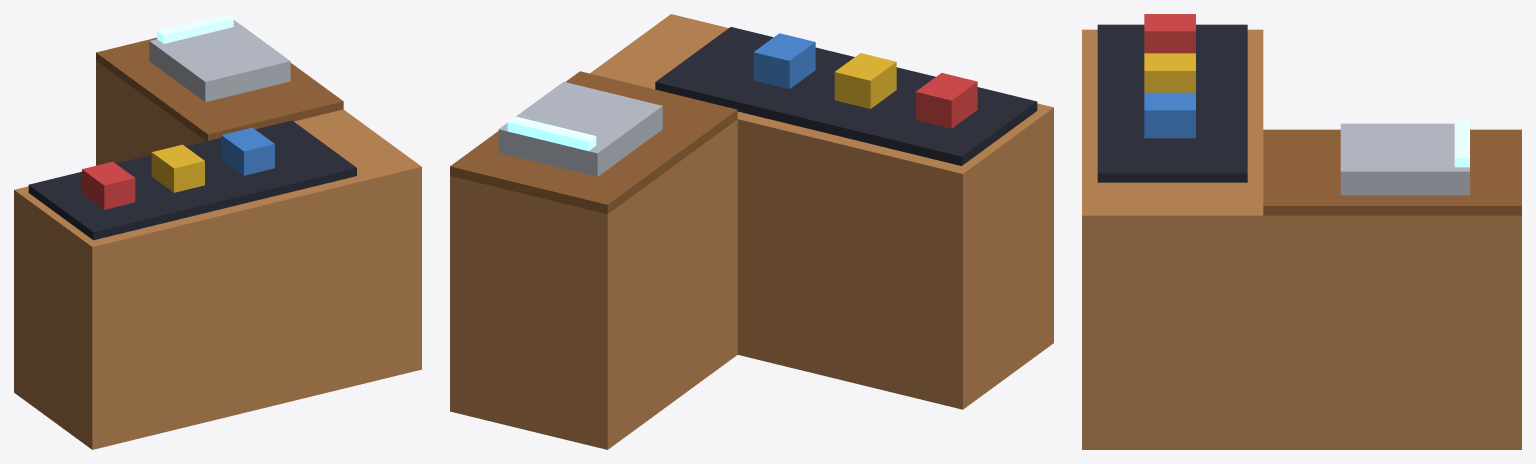
The model's file is cash-register.glb.
3 views of the same model, side by side, from view 1: azimuth 30°, elevation 25°; view 2: azimuth 150°, elevation 25°; view 3: azimuth 270°, elevation 25° (orthographic). The views are drawn at different scales.
Parts seen in each view (by area): view 1: cash-register; view 2: cash-register; view 3: cash-register.
Boxes of the visible parts, <box> form: cash-register: <box>14,14,421,449</box>; cash-register: <box>450,14,1053,449</box>; cash-register: <box>1082,14,1521,449</box>.
Size of the model in its own units: 0.85 by 0.59 by 0.85.
Materials: 1 (1 with a texture image).
